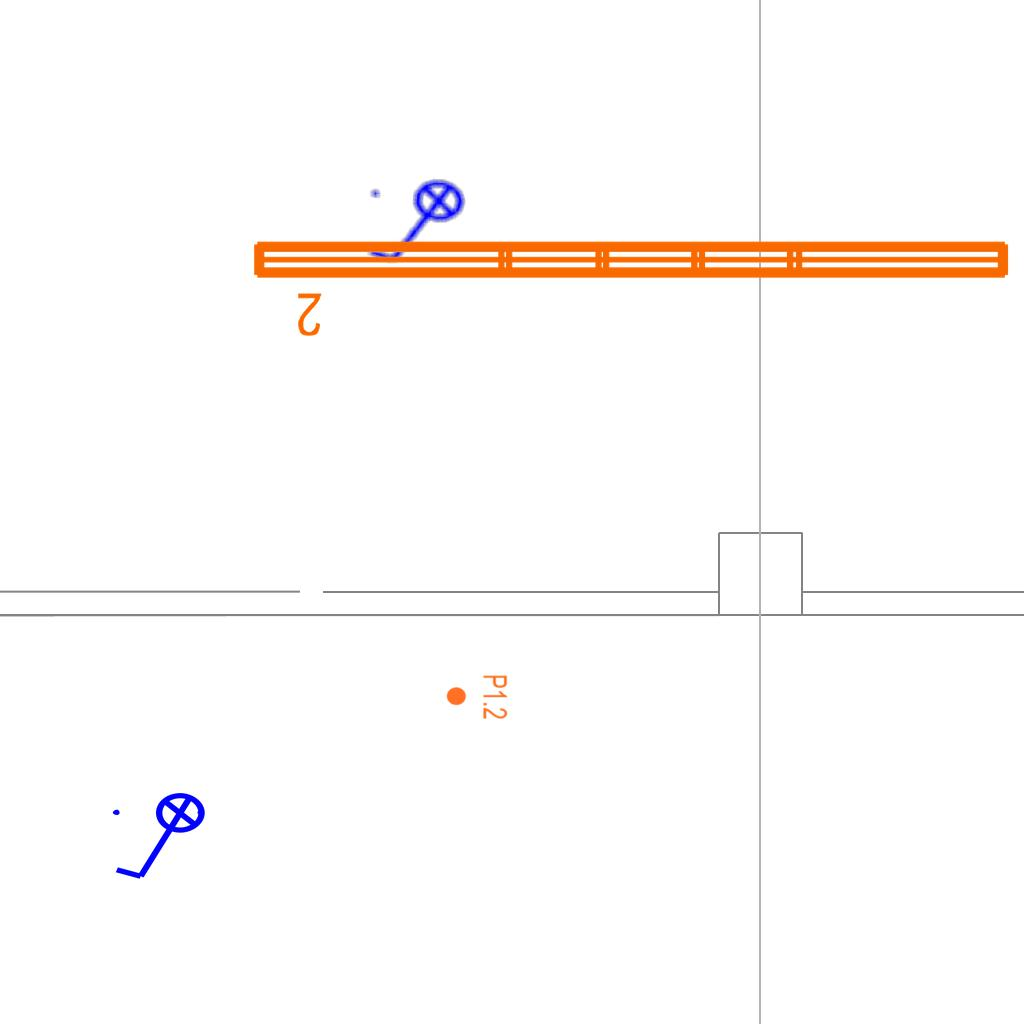Ambulanz_Pendelleuchte_LED: (245, 229, 1019, 341)
Ausschalter_beleuchtet: (358, 171, 480, 279), (107, 791, 219, 887)
Downlight_LED_Einbauleuchten_Flur: (445, 674, 509, 720)
